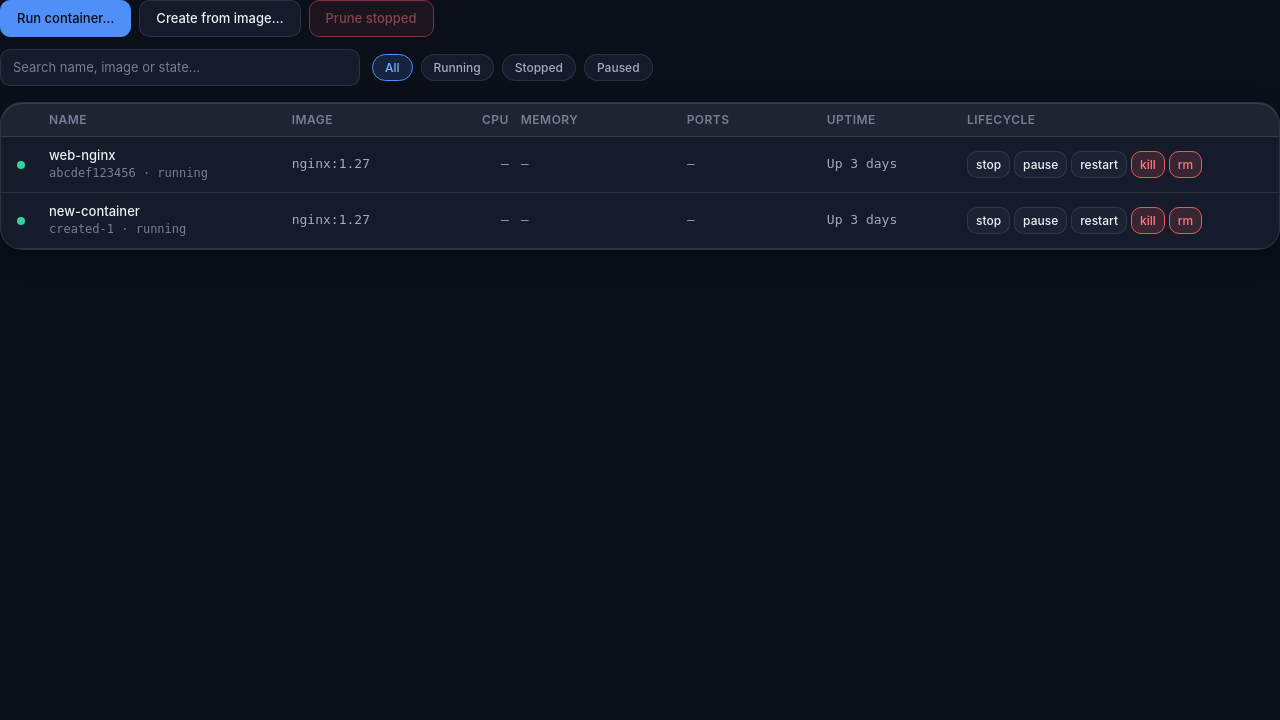
Scenario: ContainersScreen — create/run entry points (plan-docker_management_app/REQ-27) › selects the created container in the list
Step 1. Click the button "Run container…" → x=66, y=18, box x1=0 y1=0 x2=131 y2=37
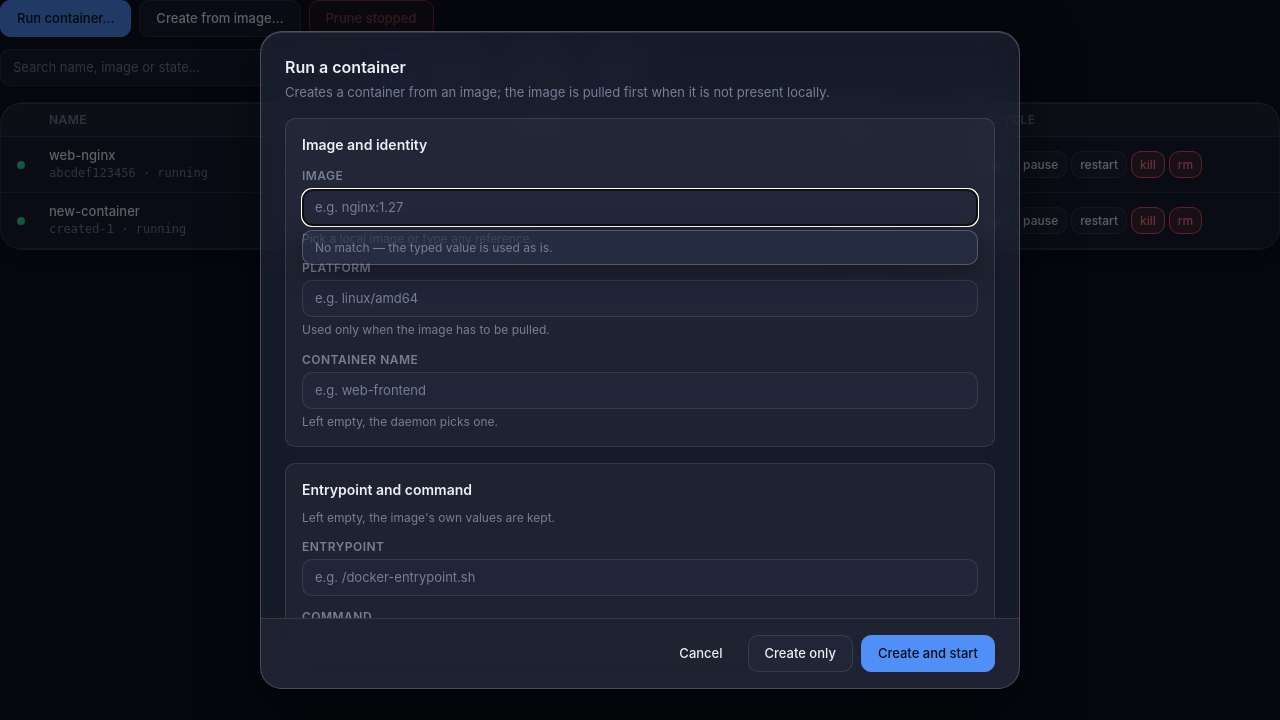
Step 2. Type "nginx:1.27" into the dropdown named "Image reference" → x=640, y=207, box x1=302 y1=189 x2=978 y2=226
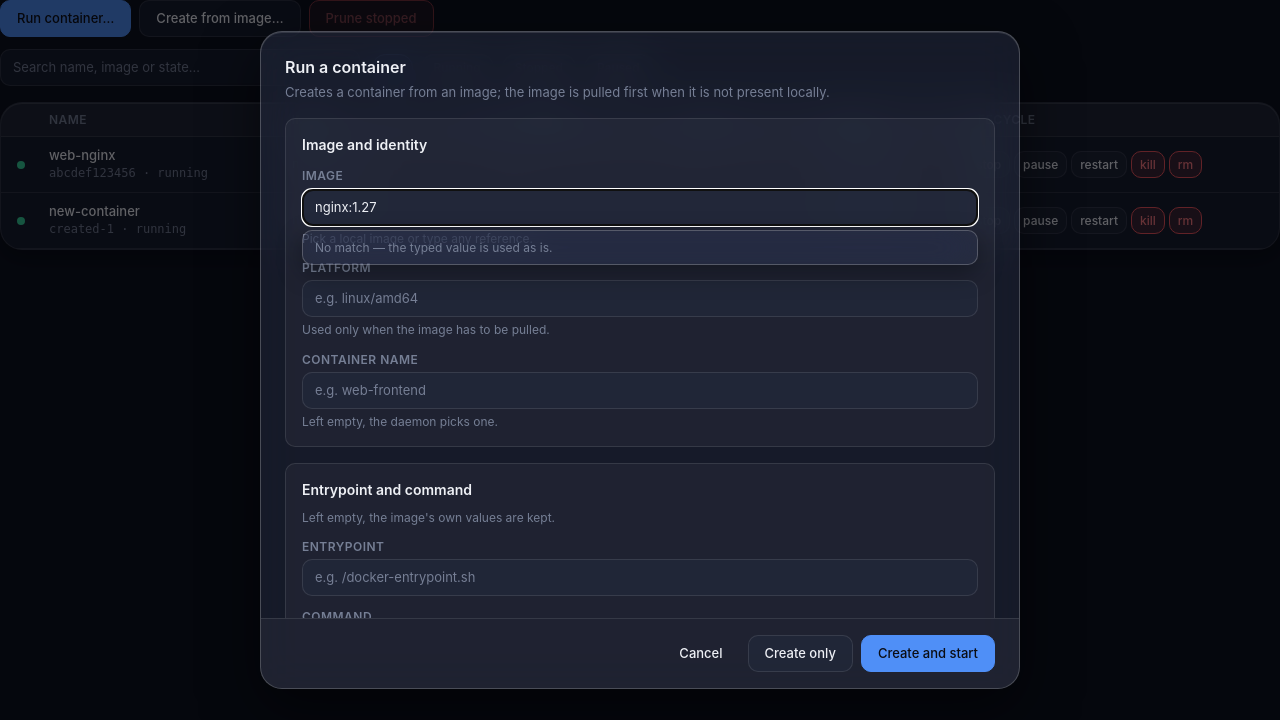
Step 3. Click the button "Create and start" → x=928, y=654, box x1=861 y1=635 x2=995 y2=672
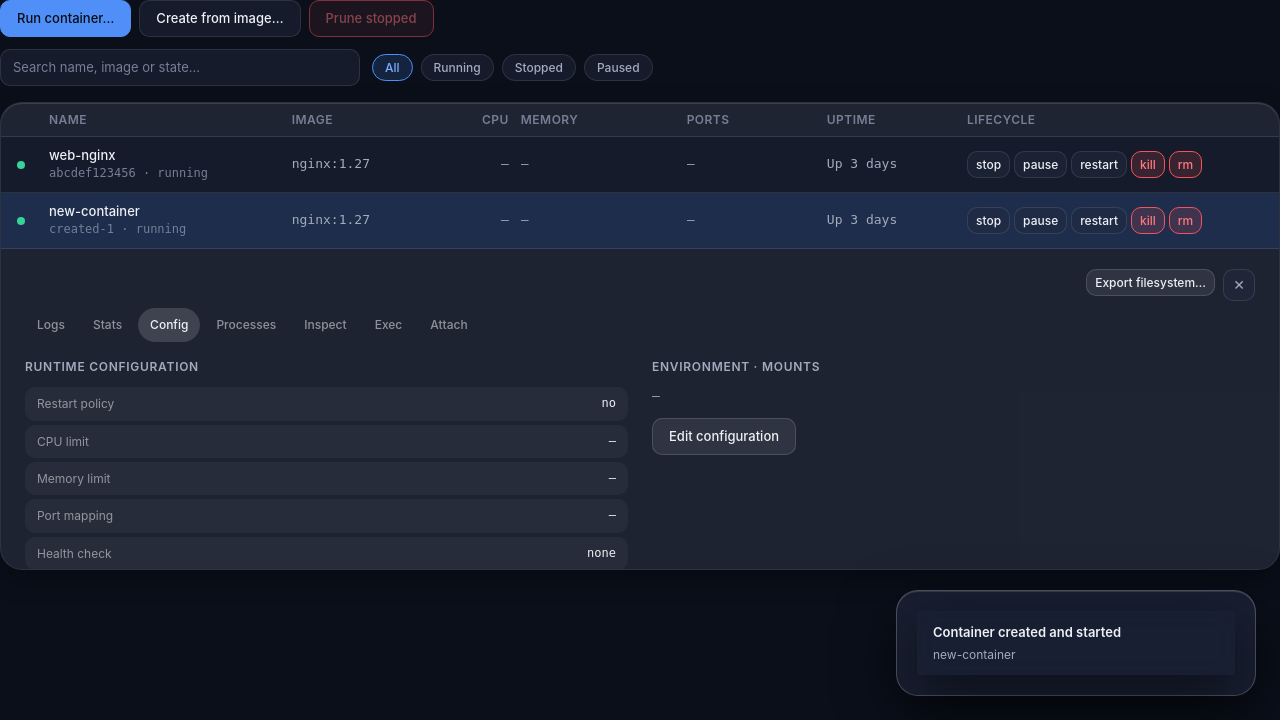
Expected: the element with class "ui-data-table__row--selected" shows "new-container", x1=49 y1=204 x2=140 y2=220
Expected: the element with class "ui-data-table__row--selected" is shown, x1=1 y1=193 x2=1279 y2=249
